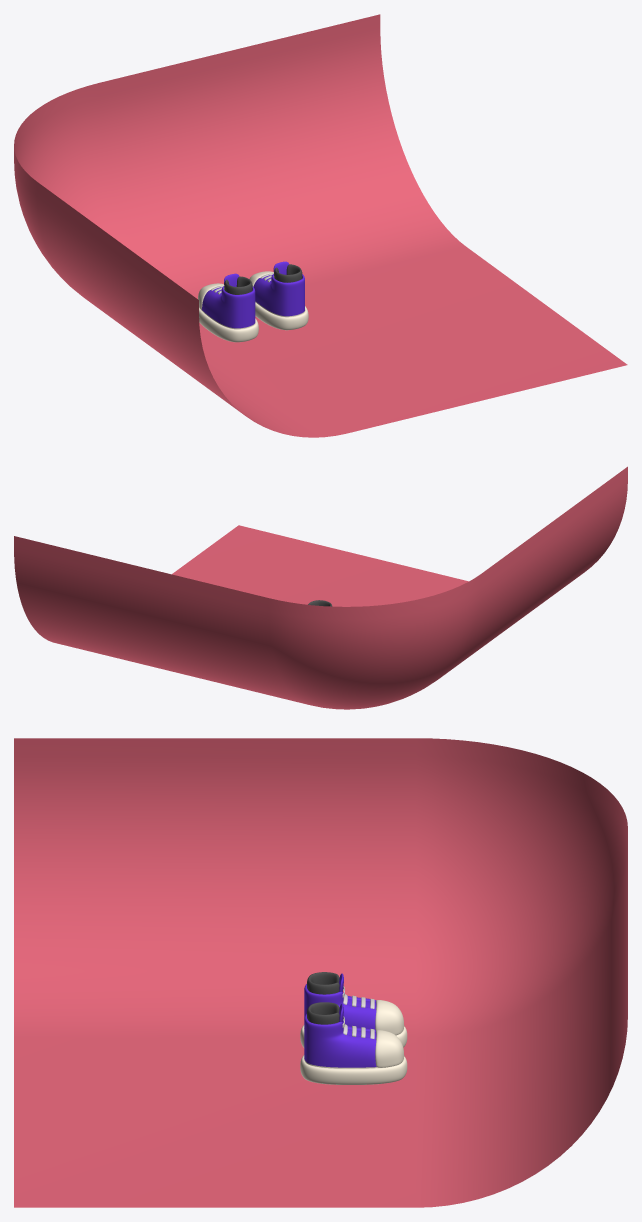
The model's file is shoes.gltf.
3 views of the same model, one above another, from view 1: azimuth 30°, elevation 25°; view 2: azimuth 150°, elevation 25°; view 3: azimuth 270°, elevation 25° (orthographic). The views are drawn at different scales.
Parts seen in each view (by area): view 1: Plane, Cube, Cube.001; view 2: Plane; view 3: Plane, Cube.001, Cube.
Boxes of the visible parts, box(x1,y1,x2,y2) form: Plane: box(14, 14, 627, 437); Cube: box(198, 273, 258, 342); Cube.001: box(249, 261, 308, 330); Plane: box(14, 466, 627, 709); Plane: box(14, 738, 627, 1207); Cube.001: box(300, 1002, 407, 1084); Cube: box(300, 972, 407, 1047).
Size of the model in its own units: 17.23 by 6.51 by 17.23.
